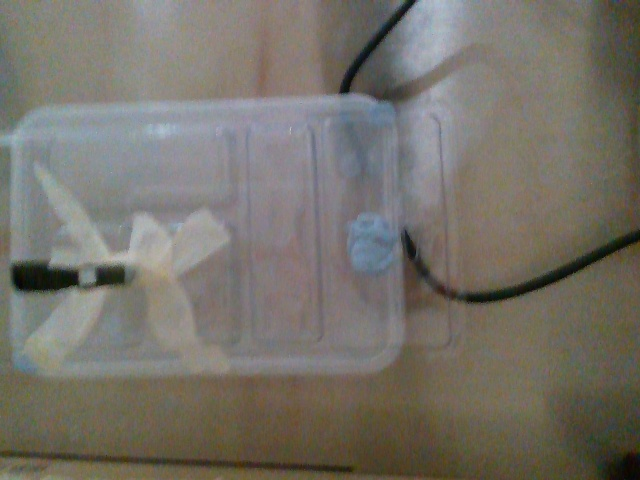test_strip: (8, 258, 96, 292)
